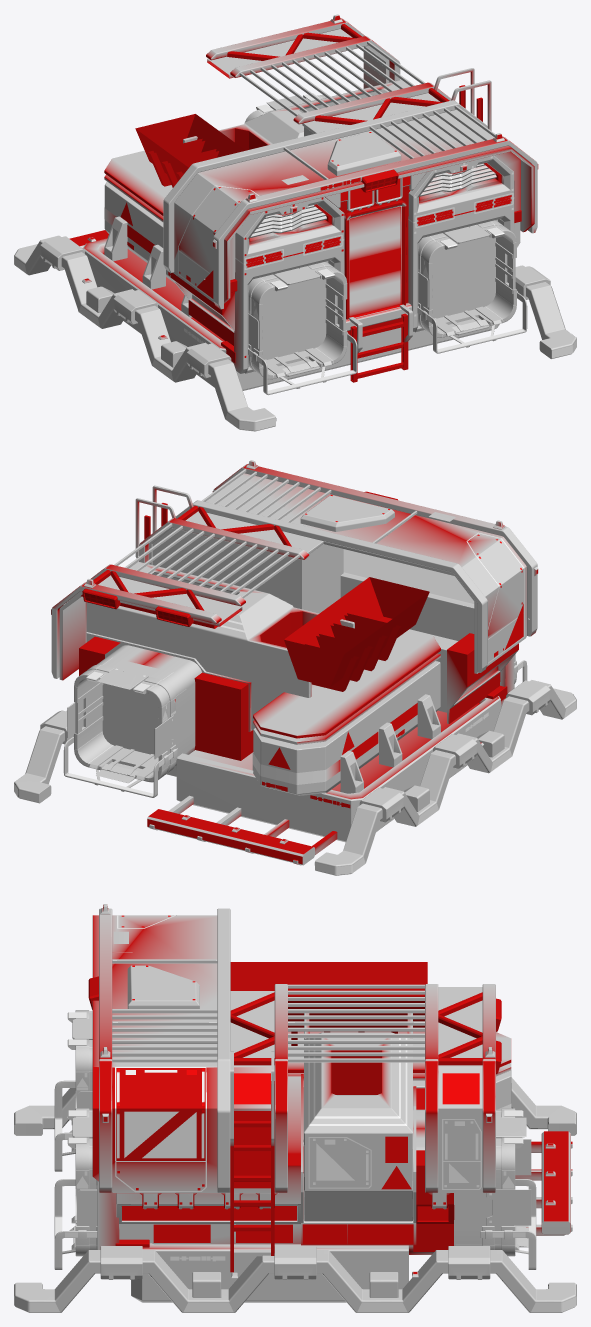
File: SF_Furnace.fbx
3 renders of one model, top to bottom at view 1: azimuth 30°, elevation 25°; view 2: azimuth 150°, elevation 25°; view 3: azimuth 270°, elevation 25°, orthographic. The views are drawn at different scales.
Parts seen in each view (by area): view 1: FoundryMk1_static; view 2: FoundryMk1_static; view 3: FoundryMk1_static.
Boxes of the visible parts, <box> form: FoundryMk1_static: <box>14,14,576,431</box>; FoundryMk1_static: <box>14,460,576,875</box>; FoundryMk1_static: <box>14,904,576,1312</box>.
Size of the model in its own units: 818 by 480 by 968.
